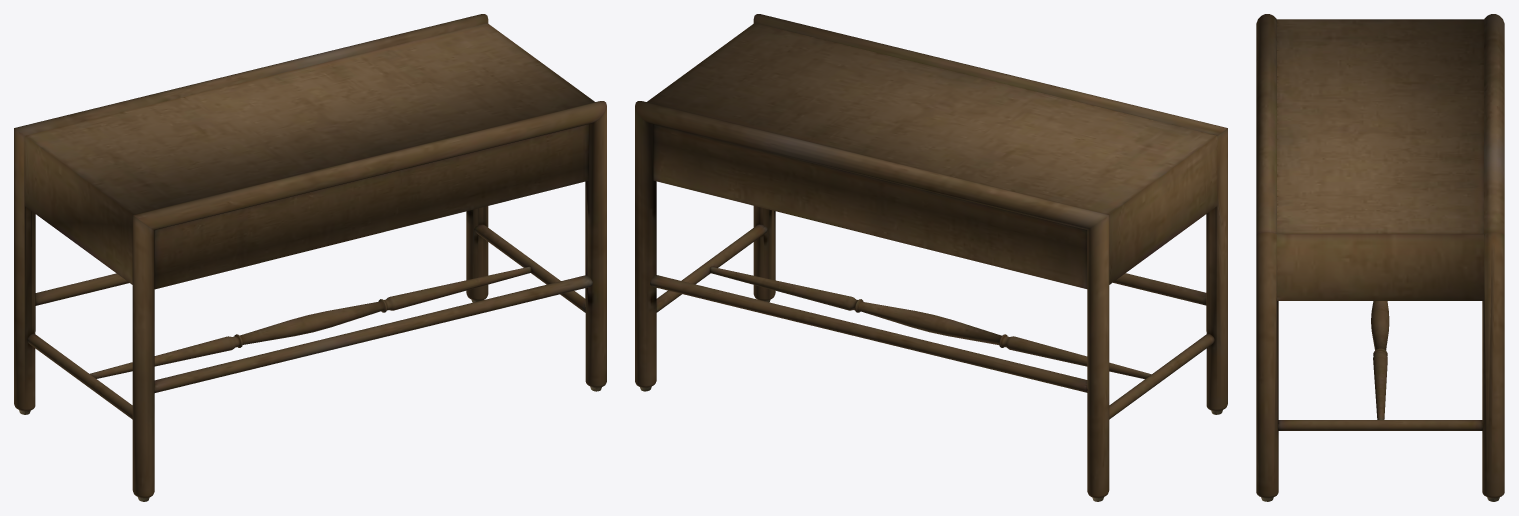
Rendered from small_wooden_table_01.glb.
3 views of the same model, side by side, from view 1: azimuth 30°, elevation 25°; view 2: azimuth 150°, elevation 25°; view 3: azimuth 270°, elevation 25° (orthographic). The views are drawn at different scales.
Parts seen in each view (by area): view 1: small_wooden_table_01; view 2: small_wooden_table_01; view 3: small_wooden_table_01.
Part boxes in pixels (x1,y1,x2,y2): small_wooden_table_01: (14, 14, 606, 501); small_wooden_table_01: (635, 14, 1227, 501); small_wooden_table_01: (1256, 14, 1504, 501).
Size of the model in its own units: 0.9162 by 0.5331 by 0.4399.
Materials: 1 (1 with a texture image).
